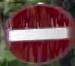No entry: (6, 4, 73, 64)
